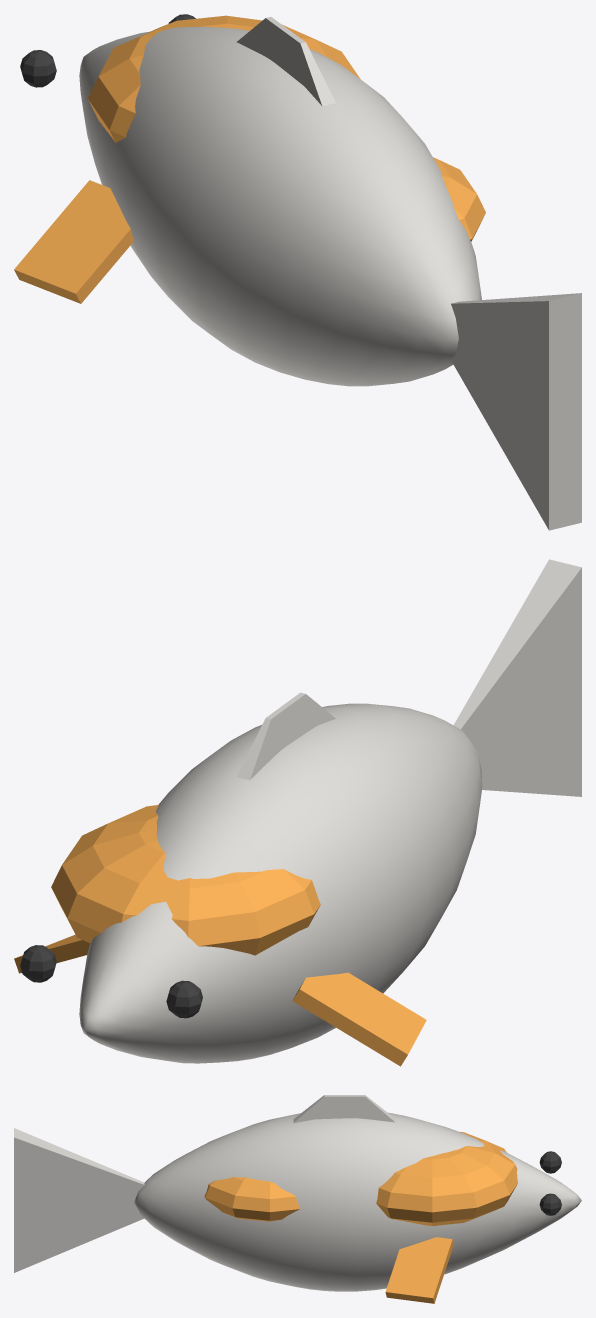
File: koi.glb
3 renders of one model, top to bottom at view 1: azimuth 30°, elevation 25°; view 2: azimuth 150°, elevation 25°; view 3: azimuth 270°, elevation 25°, orthographic. The views are drawn at different scales.
Parts seen in each view (by area): view 1: koi; view 2: koi; view 3: koi.
Part boxes in pixels (x1,y1,x2,y2): koi: (14,14,581,530); koi: (14,559,581,1066); koi: (14,1095,581,1303).
Bounding box in the file's own units: 0.4311 × 0.3341 × 0.91.
